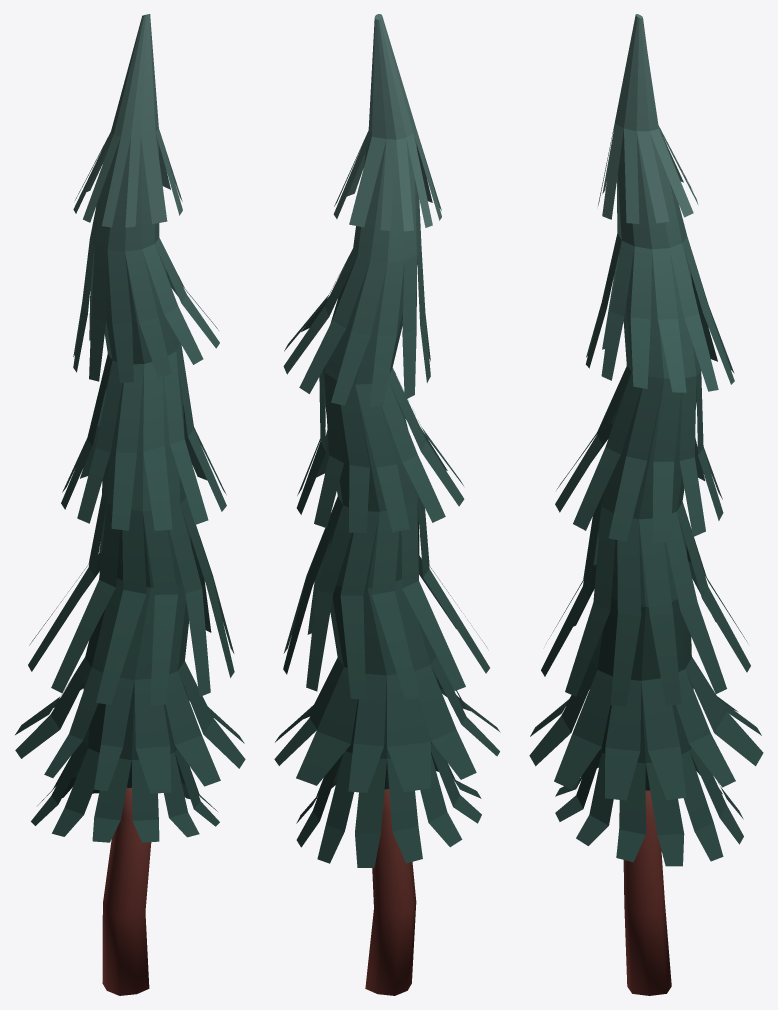
File: tree.fbx
3 views of the same model, side by side, from view 1: azimuth 30°, elevation 25°; view 2: azimuth 150°, elevation 25°; view 3: azimuth 270°, elevation 25° (orthographic).
Visible parts, largest first — view 1: Tree; view 2: Tree; view 3: Tree.
Part boxes in pixels (x1,y1,x2,y2): Tree: (15,14,245,995); Tree: (274,14,500,995); Tree: (529,14,763,995).
Size of the model in its own units: 318 by 1487 by 322.
